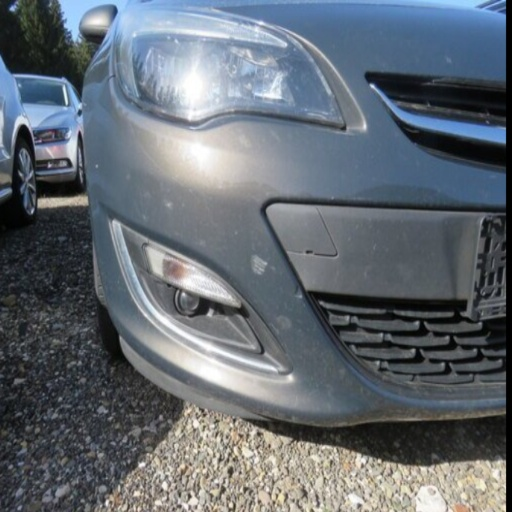dent: (332, 183, 490, 211), (441, 214, 480, 301), (294, 285, 303, 298)
scratch: (250, 252, 269, 275), (275, 315, 293, 331), (446, 55, 454, 64)
